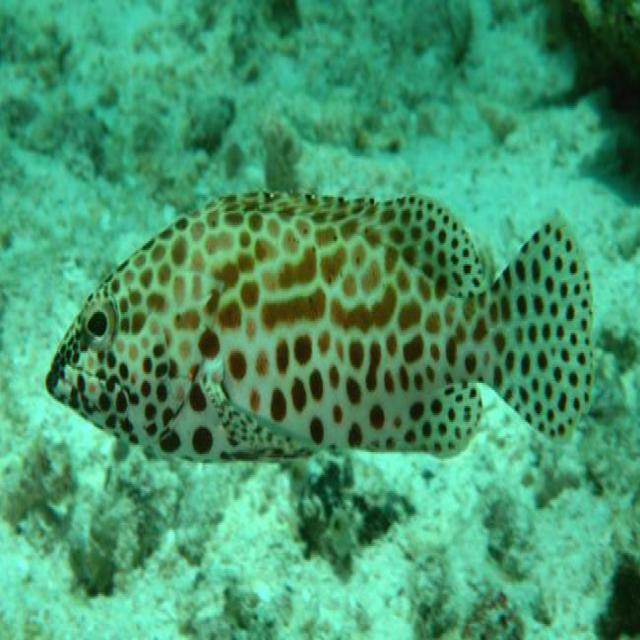ikan: (44, 186, 595, 465)
